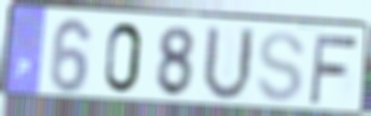0: (103, 21, 144, 97)
6: (47, 16, 93, 96)
8: (155, 25, 198, 99)
F: (307, 32, 361, 106)
S: (255, 30, 308, 105)
U: (199, 22, 257, 105)
